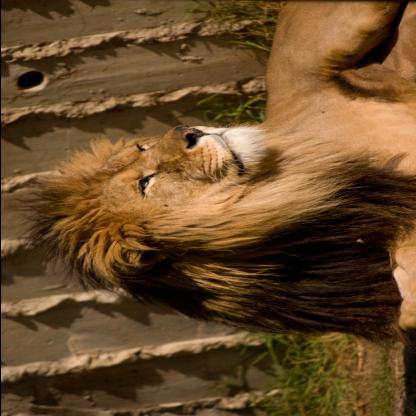lion: (24, 121, 296, 298)
